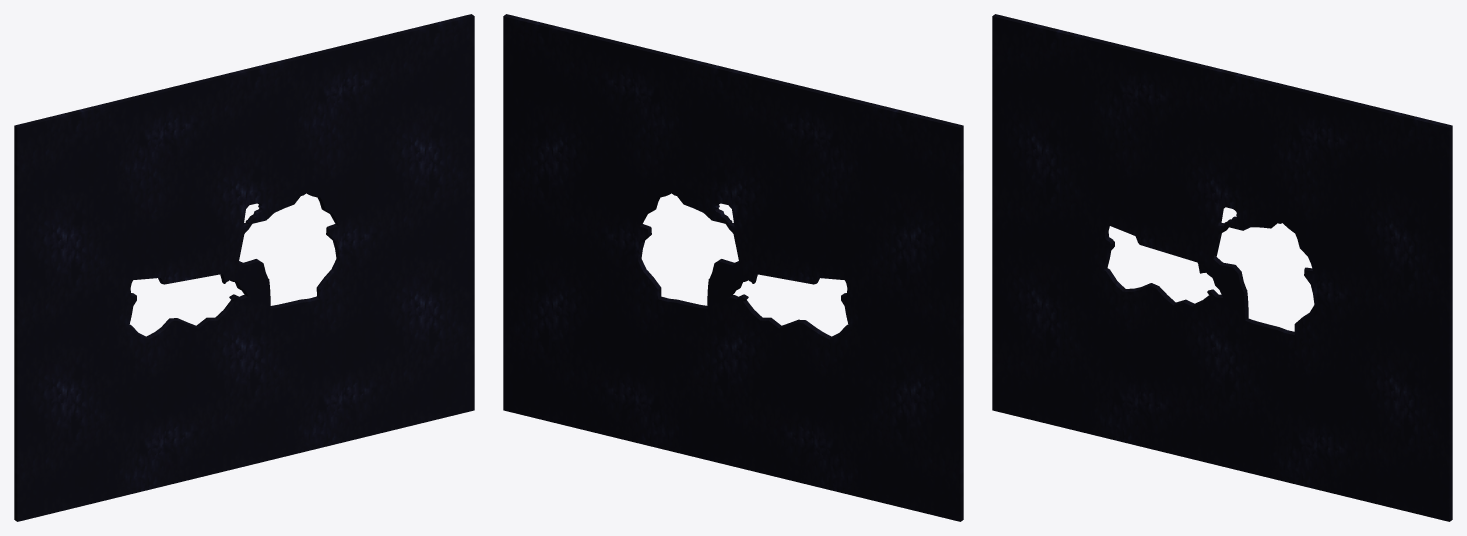
File: Room_Transition_FG.fbx
The picture shows the model from 3 angles, left to right: view 1: azimuth 30°, elevation 25°; view 2: azimuth 150°, elevation 25°; view 3: azimuth 330°, elevation 25°; orthographic projection.
Visible parts, largest first — view 1: polySurface4; view 2: polySurface4; view 3: polySurface4.
Part boxes in pixels (bbox=[...]): polySurface4: bbox=[14, 14, 474, 521]; polySurface4: bbox=[503, 14, 963, 521]; polySurface4: bbox=[992, 14, 1452, 521].
Bounding box in the file's own units: 75.12 × 61.86 × 1.3.
Materials: 1 (1 with a texture image).
